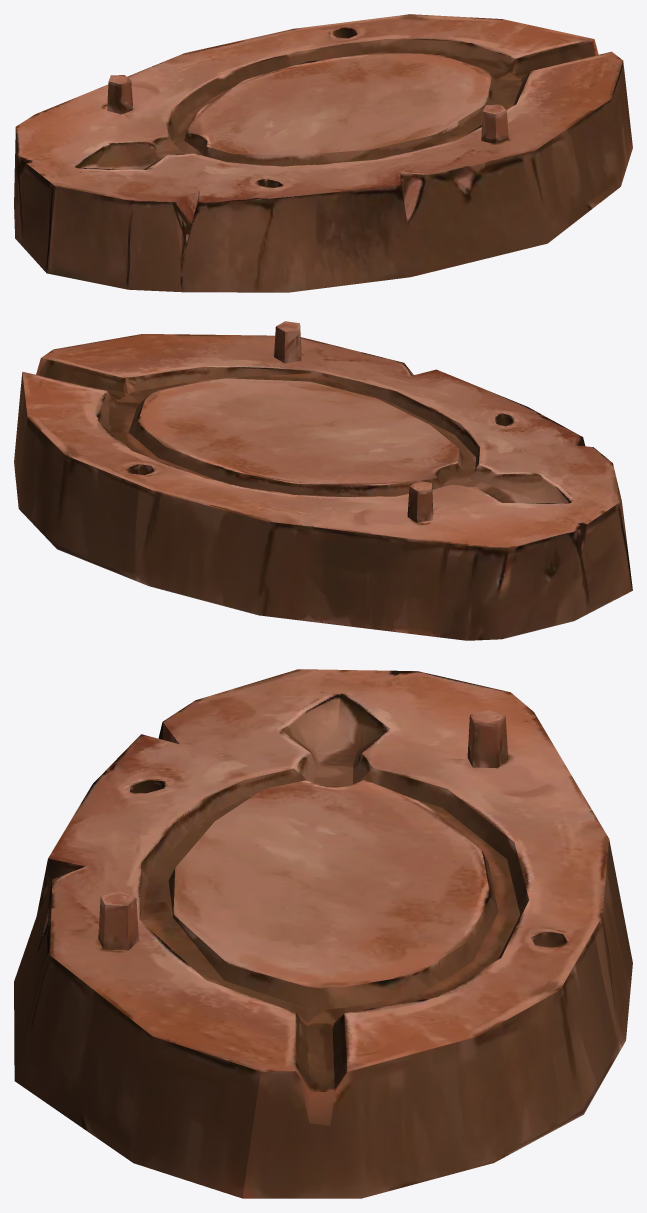
3 renders of one model, top to bottom at view 1: azimuth 30°, elevation 25°; view 2: azimuth 150°, elevation 25°; view 3: azimuth 270°, elevation 25°, orthographic. The views are drawn at different scales.
Parts seen in each view (by area): view 1: SM_Amulet_Mould_01_LOD0; view 2: SM_Amulet_Mould_01_LOD0; view 3: SM_Amulet_Mould_01_LOD0.
Part boxes in pixels (x1=…): SM_Amulet_Mould_01_LOD0: x1=14, y1=14, x2=632, y2=292; SM_Amulet_Mould_01_LOD0: x1=14, y1=321, x2=632, y2=640; SM_Amulet_Mould_01_LOD0: x1=14, y1=669, x2=632, y2=1198.
Size of the model in its own units: 0.4665 by 0.089 by 0.2961.
1 material, 1 textured.
